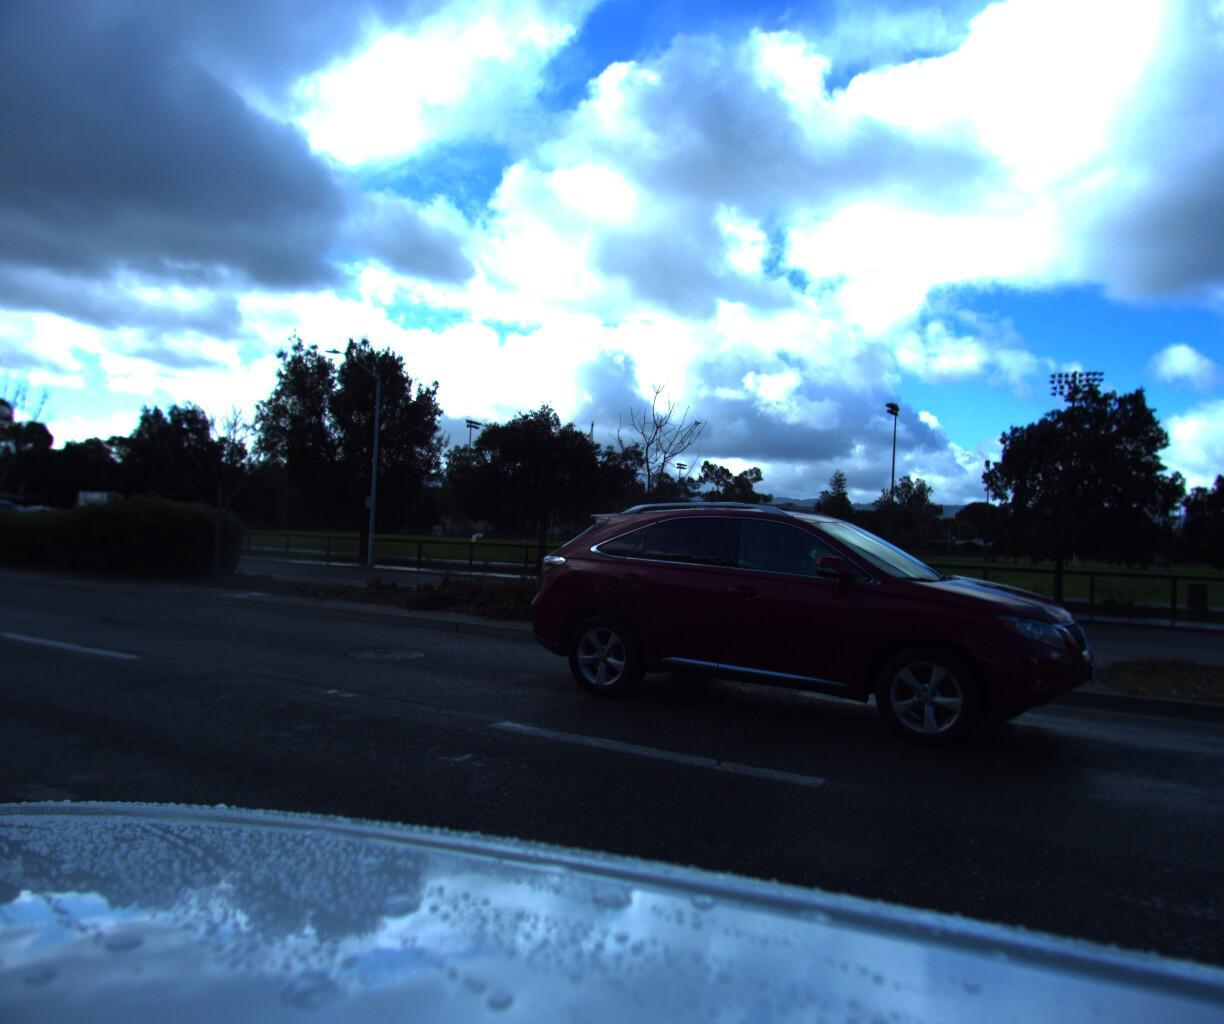car: (502, 487, 1082, 768)
truck: (0, 479, 155, 553)
